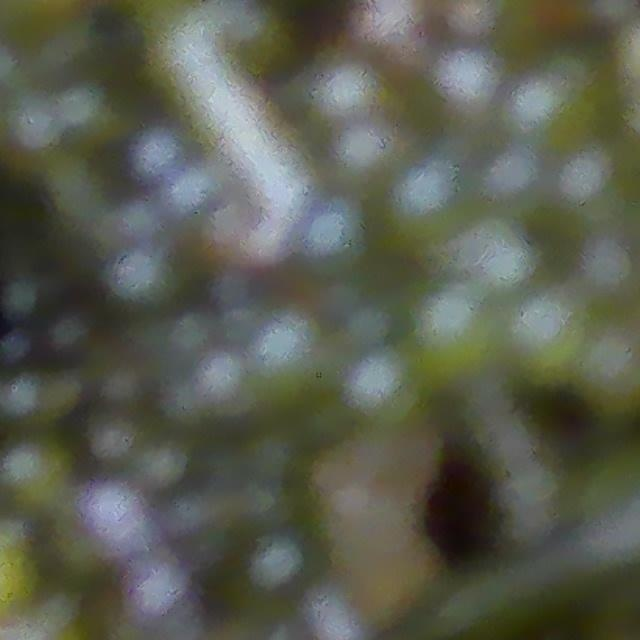SeaGrape: (413, 290, 499, 380), (503, 289, 589, 378), (575, 331, 640, 419), (466, 219, 537, 293), (393, 161, 456, 220), (579, 235, 635, 295), (484, 146, 542, 201), (555, 147, 611, 203)
